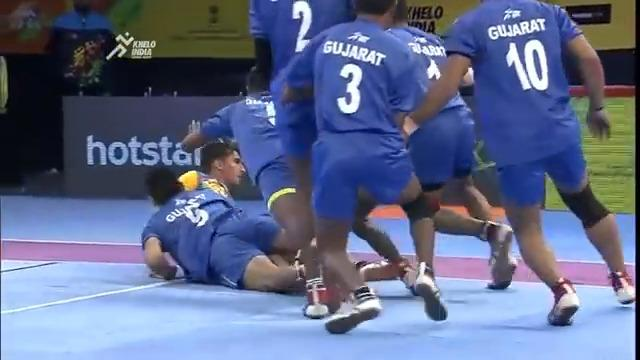Player: (404, 0, 635, 325), (140, 134, 515, 295), (271, 0, 448, 334), (178, 65, 413, 295), (382, 0, 517, 295), (179, 65, 310, 266)
Raider: (186, 146, 244, 204)
referee: (39, 0, 119, 175), (45, 0, 117, 96)
